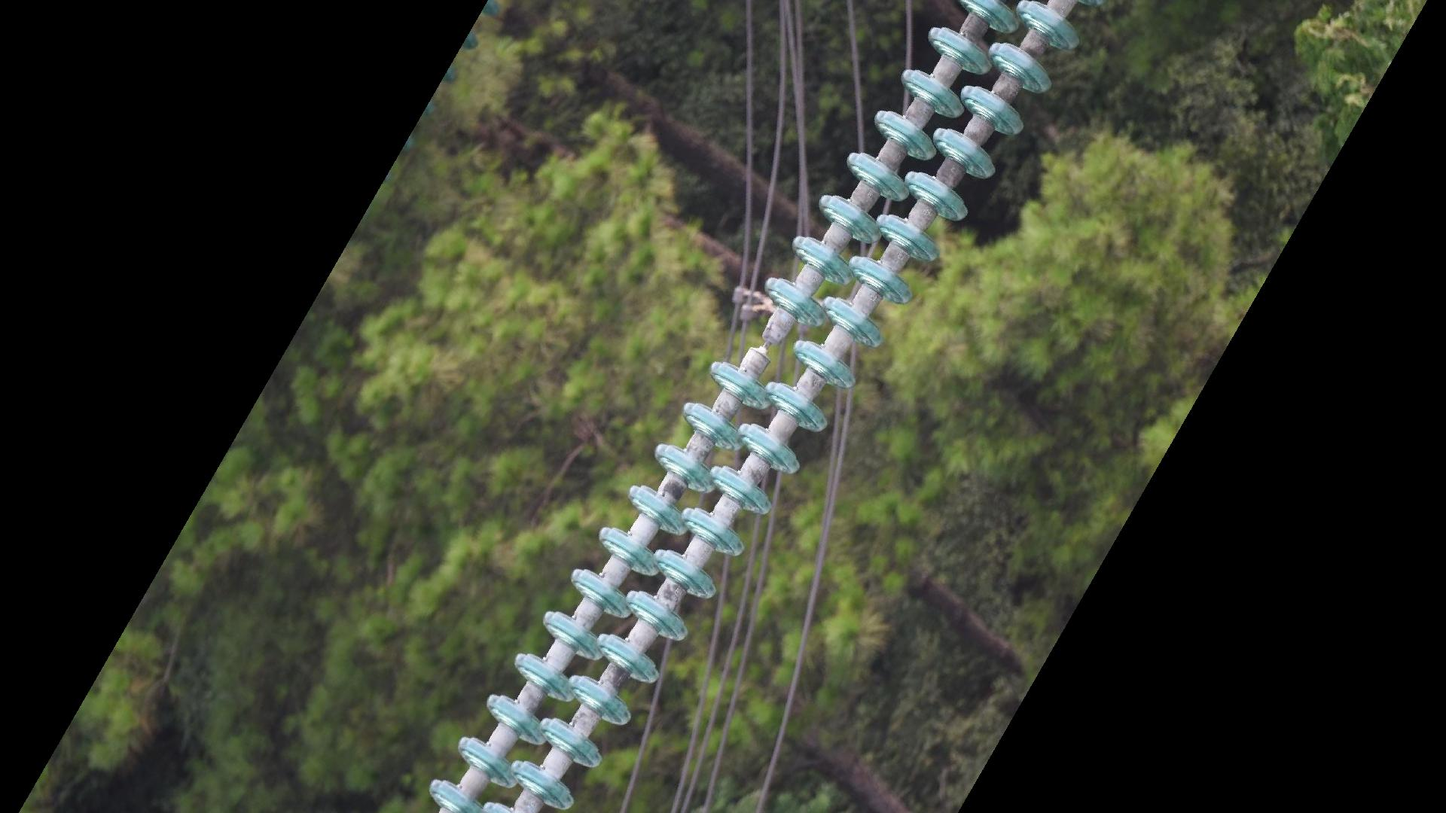insulator: (424, 1, 1090, 813)
insulator_stringdrop: (708, 271, 831, 416)
